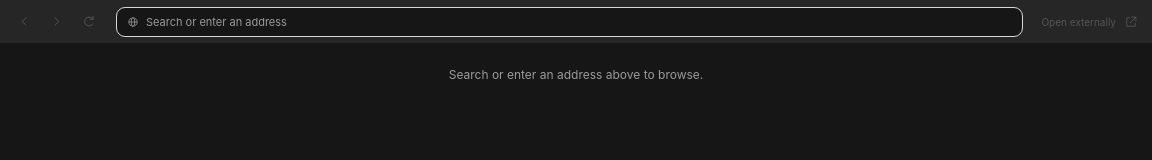
it: suggests history while typing, picks with the arrows, and Esc closes the list
Type "news" into the dropdown with placeholder "Search or enter an address".
click(579, 22); type("news")  # box 146,8 -> 1012,36
Wait 20 ms
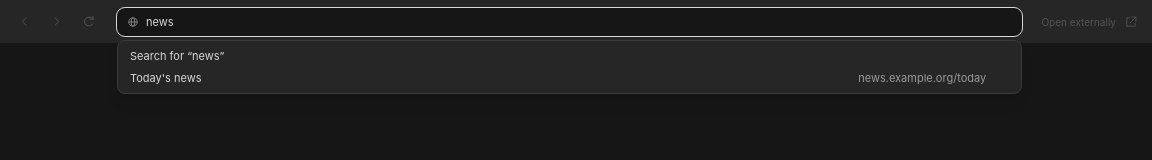
Now the option "Today's news news.example.org/today" is shown, box 122,67 -> 1018,89
Press Escape in the dropdown named "Address", box 146,8 -> 1012,36
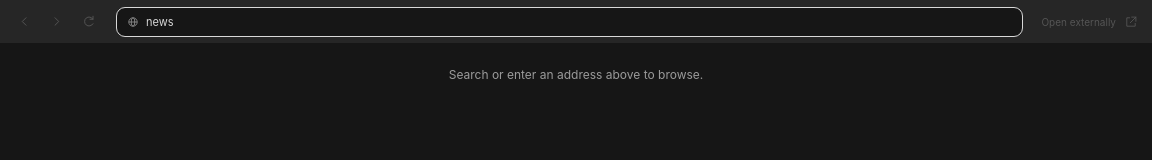
Now the list is gone
Replace the text in the dropdown named "Address" with "today" at (579, 22), box 146,8 -> 1012,36
Wait 20 ms
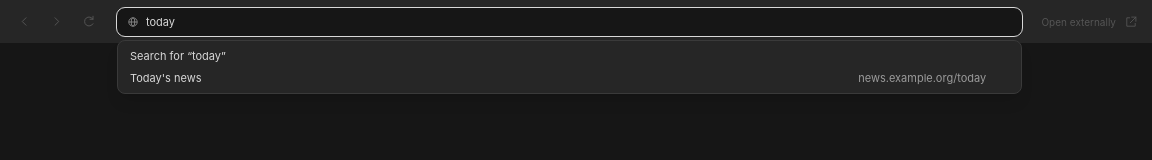
Press ArrowDown in the dropdown named "Address", box 146,8 -> 1012,36
Press ArrowDown in the dropdown named "Address", box 146,8 -> 1012,36
Press Enter in the dropdown named "Address", box 146,8 -> 1012,36
Wait 20 ms
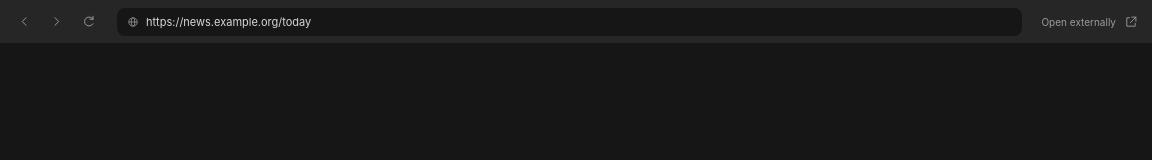
Now the dropdown named "Address" holds "https://news.example.org/today", box 146,8 -> 1012,36
Now the list is gone
